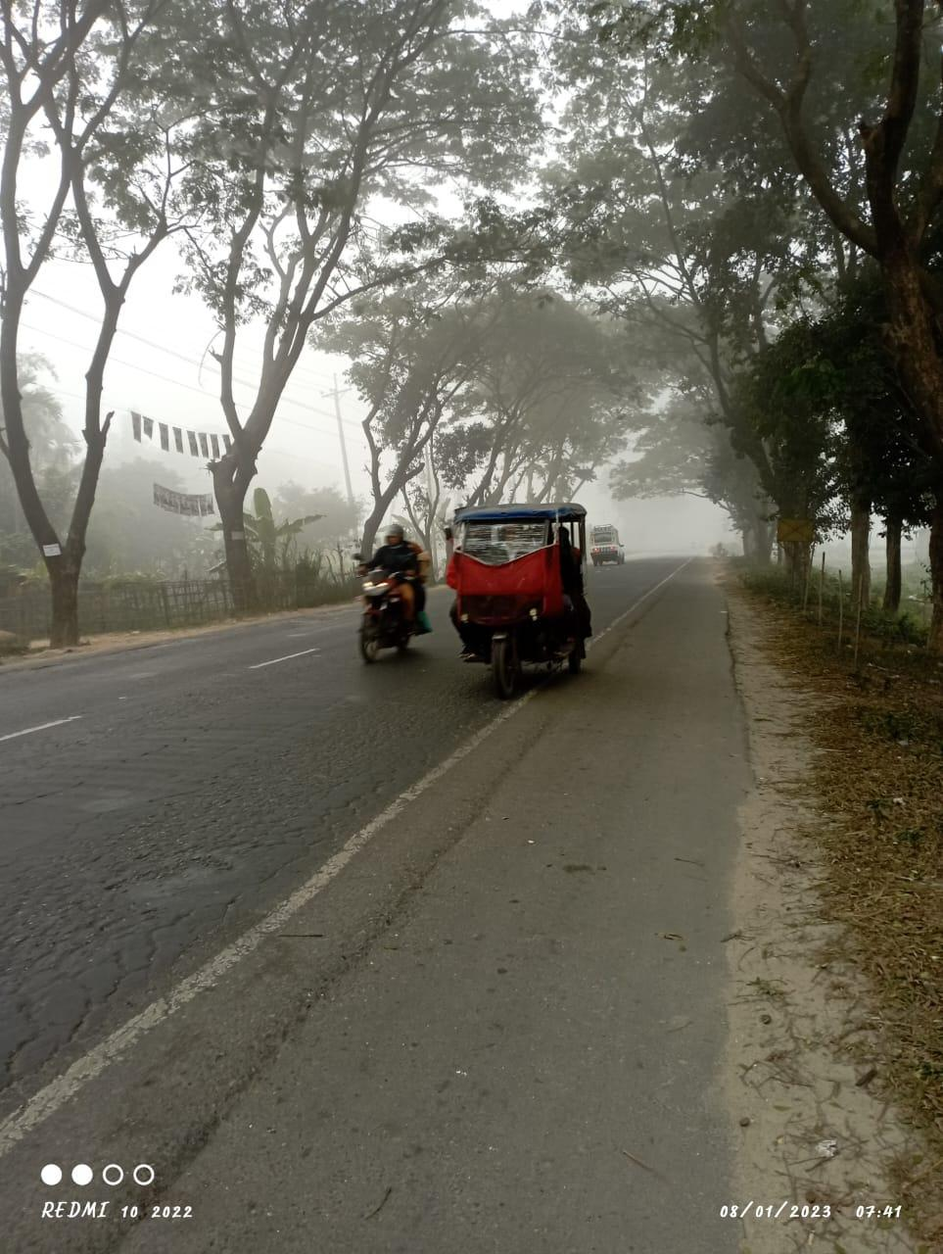Bike: (349, 522, 428, 665)
Car: (433, 493, 597, 693), (589, 518, 631, 565)
